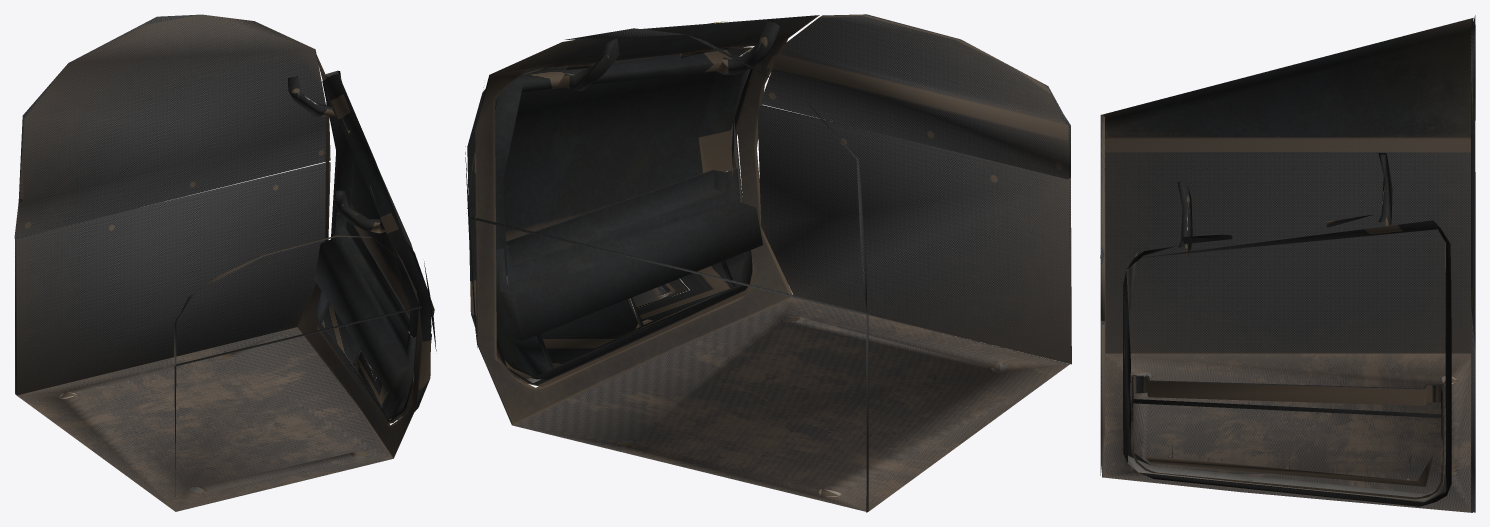
Rendered from Tecnam2012_Front_Baggage_LOD03.gltf.
The picture shows the model from 3 angles, left to right: view 1: azimuth 30°, elevation 25°; view 2: azimuth 150°, elevation 25°; view 3: azimuth 270°, elevation 25°; orthographic projection. The views are drawn at different scales.
Visible parts, largest first — view 1: FB_Cube.039, FB_Cube.037, FB_Cube.025, FB_Cube.040, FB_Cube.042, FB_Cube.041, FB_Cube.032, FB_Circle.035, FB_Cube.033, FB_Circle.037; view 2: FB_Cube.025, FB_Cube.032, FB_Cube.040, FB_Cube.042, FB_Cube.033, FB_Cube.041, FB_Cube.037, FB_Cube.039, FB_Circle.035, FB_Circle.037; view 3: FB_Cube.025, FB_Cube.040, FB_Cube.041, FB_Cube.042, FB_Cube.039, FB_Cube.037, FB_Cube.033, FB_Cube.032, FB_Circle.035, FB_Circle.037.
Boxes of the visible parts, x1=… form: FB_Cube.039: x1=14, y1=14, x2=330, y2=238; FB_Cube.037: x1=15, y1=161, x2=330, y2=395; FB_Cube.025: x1=16, y1=51, x2=422, y2=511; FB_Cube.040: x1=314, y1=207, x2=431, y2=419; FB_Cube.042: x1=322, y1=74, x2=431, y2=415; FB_Cube.041: x1=317, y1=70, x2=436, y2=424; FB_Cube.032: x1=174, y1=306, x2=421, y2=497; FB_Circle.035: x1=335, y1=190, x2=385, y2=233; FB_Cube.033: x1=174, y1=235, x2=402, y2=365; FB_Circle.037: x1=288, y1=76, x2=335, y2=117; FB_Cube.025: x1=474, y1=15, x2=1069, y2=512; FB_Cube.032: x1=757, y1=105, x2=1071, y2=364; FB_Cube.040: x1=496, y1=167, x2=762, y2=379; FB_Cube.042: x1=467, y1=48, x2=750, y2=379; FB_Cube.033: x1=760, y1=14, x2=1070, y2=179; FB_Cube.041: x1=465, y1=47, x2=758, y2=387; FB_Cube.037: x1=468, y1=216, x2=868, y2=512; FB_Cube.039: x1=466, y1=28, x2=867, y2=314; FB_Circle.035: x1=715, y1=20, x2=779, y2=74; FB_Circle.037: x1=558, y1=39, x2=619, y2=90; FB_Cube.025: x1=1102, y1=18, x2=1473, y2=512; FB_Cube.040: x1=1131, y1=375, x2=1443, y2=499; FB_Cube.041: x1=1123, y1=214, x2=1451, y2=506; FB_Cube.042: x1=1142, y1=220, x2=1440, y2=486; FB_Cube.039: x1=1471, y1=15, x2=1475, y2=349; FB_Cube.037: x1=1471, y1=172, x2=1475, y2=512; FB_Cube.033: x1=1100, y1=115, x2=1104, y2=320; FB_Cube.032: x1=1100, y1=193, x2=1105, y2=475; FB_Circle.035: x1=1177, y1=178, x2=1192, y2=260; FB_Circle.037: x1=1378, y1=153, x2=1392, y2=226.
Size of what is drawn, in the model's own units: 0.9336 by 0.9483 by 0.7958.
